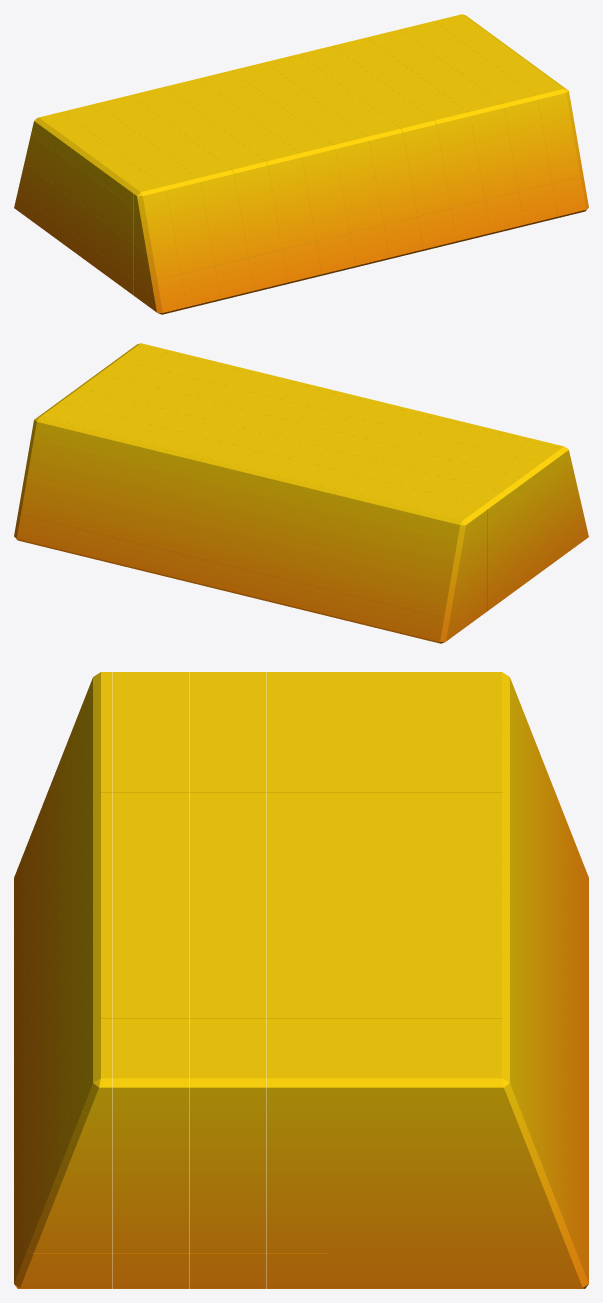
File: Gold.fbx
3 views of the same model, one above another, from view 1: azimuth 30°, elevation 25°; view 2: azimuth 150°, elevation 25°; view 3: azimuth 270°, elevation 25° (orthographic). The views are drawn at different scales.
Parts seen in each view (by area): view 1: Gold.309, Gold.087, Gold.362, Gold.312, Gold.358, Gold.396, Gold.338, Gold.359, Gold.368, Gold.272, Gold.290, Gold.373 (+128 smaller); view 2: Gold.064, Gold.306, Gold.301, Gold.282, Gold.365, Gold.384, Gold.408, Gold.409, Gold.414, Gold.351, Gold.285, Gold.385 (+116 smaller); view 3: Gold.178, Gold.374, Gold.375, Gold.062, Gold.261, Gold.310, Gold.352, Gold.353, Gold.397, Gold.398, Gold.262, Gold.311 (+133 smaller).
Boxes of the visible parts, x1,y1,x2,y2 form: Gold.309: (133, 206, 176, 252); Gold.087: (133, 243, 180, 291); Gold.362: (203, 190, 243, 238); Gold.312: (271, 173, 311, 221); Gold.358: (237, 181, 277, 229); Gold.396: (304, 165, 345, 213); Gold.338: (439, 132, 479, 180); Gold.359: (372, 148, 412, 197); Gold.368: (406, 140, 446, 188); Gold.272: (507, 116, 547, 164); Gold.290: (473, 124, 513, 172); Gold.373: (169, 198, 209, 246); Gold.064: (420, 573, 467, 621); Gold.306: (426, 535, 467, 581); Gold.301: (359, 519, 399, 567); Gold.282: (291, 502, 331, 550); Gold.365: (156, 469, 196, 517); Gold.384: (325, 510, 365, 558); Gold.408: (190, 477, 230, 526); Gold.409: (123, 461, 163, 509); Gold.414: (257, 494, 298, 542); Gold.351: (89, 453, 129, 501); Gold.285: (224, 486, 264, 534); Gold.385: (393, 527, 433, 575); Gold.178: (36, 1153, 112, 1253); Gold.374: (342, 1184, 419, 1253); Gold.375: (342, 1115, 419, 1184); Gold.062: (496, 1153, 572, 1253); Gold.261: (189, 1184, 265, 1253); Gold.310: (113, 1184, 189, 1253); Gold.352: (266, 1115, 342, 1184); Gold.353: (266, 1184, 342, 1253); Gold.397: (419, 1184, 495, 1253); Gold.398: (419, 1115, 495, 1184); Gold.262: (189, 1115, 265, 1184); Gold.311: (113, 1115, 189, 1184).
Bounding box in the file's own units: 85.41 × 20.25 × 50.08.
